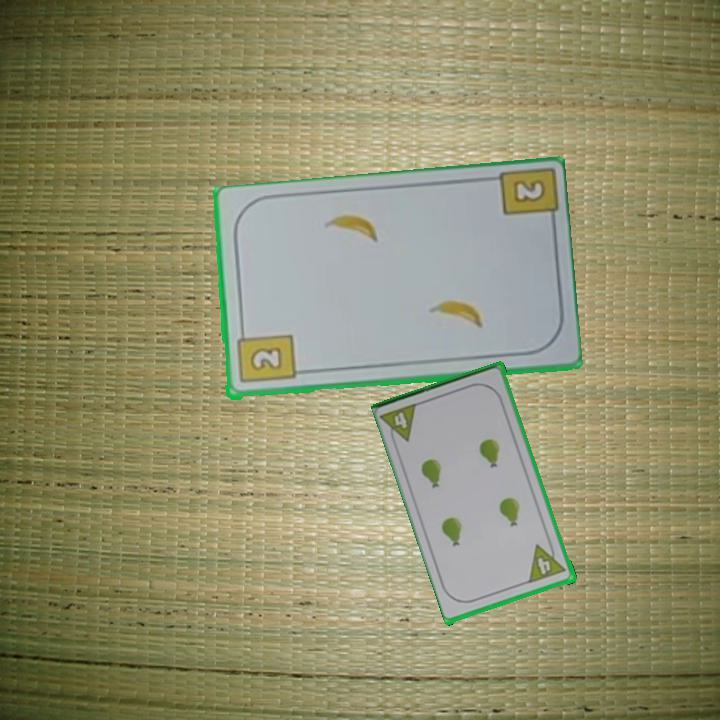2b: (233, 325, 297, 387), (509, 175, 549, 207)
4p: (378, 399, 422, 449), (525, 538, 569, 586)
